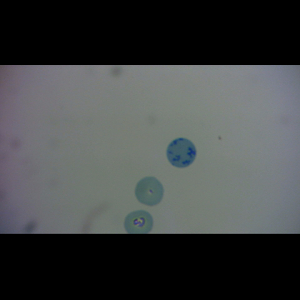aggregate reticulocyte: (165, 137, 198, 169)
erythrocyte: (133, 175, 166, 207), (123, 209, 155, 234)
